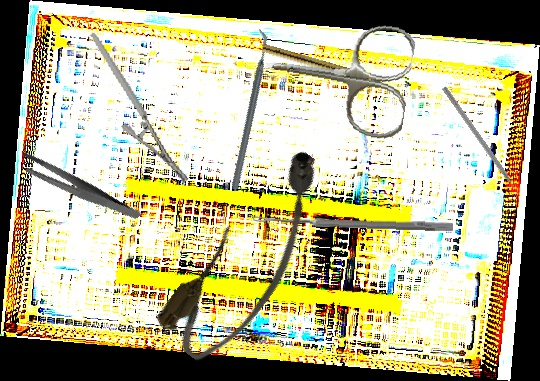Cannula: (149, 140, 353, 373)
Chopper: (175, 26, 322, 192), (436, 85, 524, 205)
Dressing Forceps: (16, 129, 142, 247)
Handpiece: (260, 43, 387, 90)
Iris Scissors: (257, 7, 418, 143)
Needle Holder: (89, 18, 191, 197)
Surgical Spoon: (252, 214, 454, 232)
